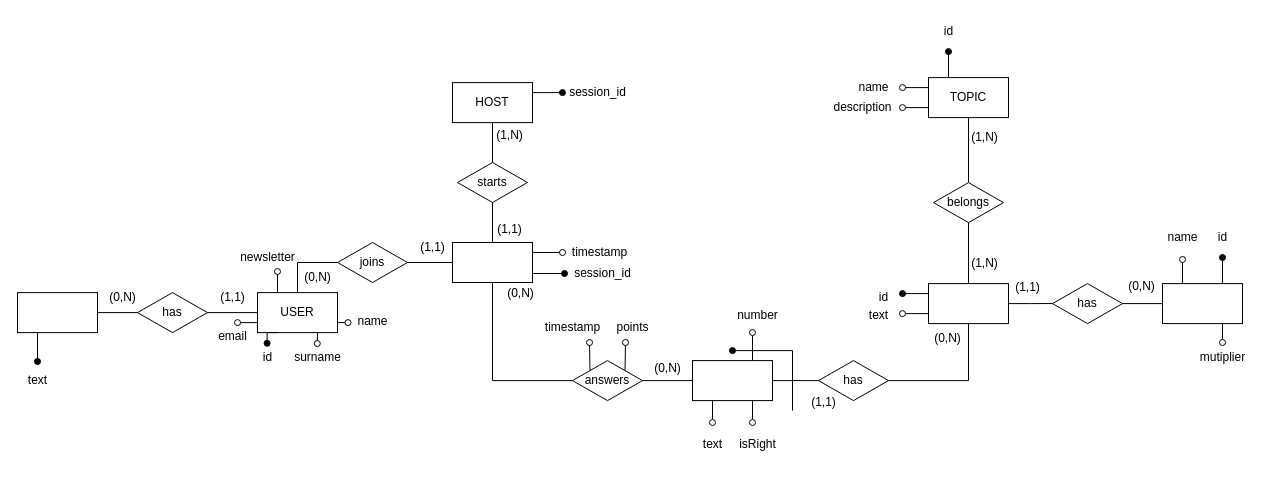
Image size: 1275x477. Some labels were removed from this diagram. The box of each missing label's shape, as (x1, y1, x2, y2) in pixels:
ANSWER: (692, 360, 772, 401)
DIFFICULTY: (1162, 283, 1242, 324)
GAME: (452, 242, 532, 282)
QUESTION: (928, 283, 1008, 324)
TYPE: (16, 292, 98, 333)
